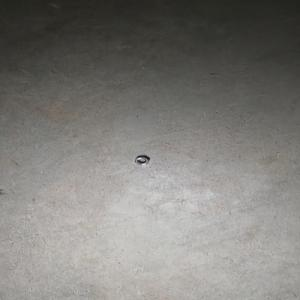Nut: (133, 157, 149, 167)
